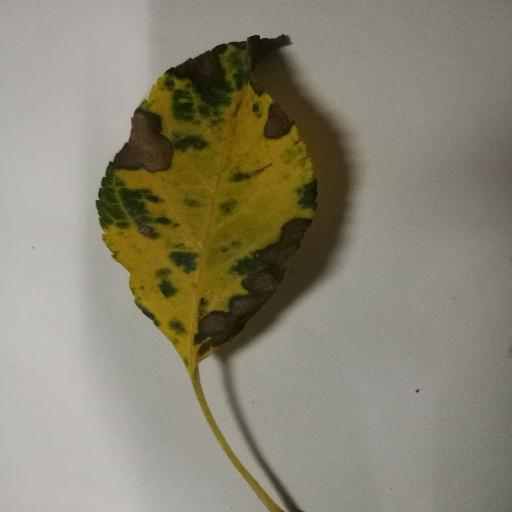Brown_Spot: (198, 197, 309, 341), (114, 103, 160, 171), (253, 97, 297, 141)
